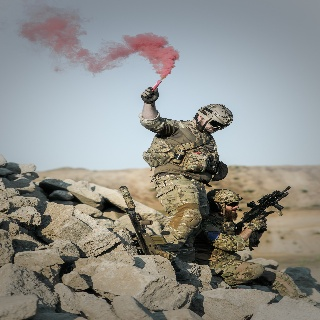rifle: (118, 184, 168, 258), (235, 185, 291, 251)
